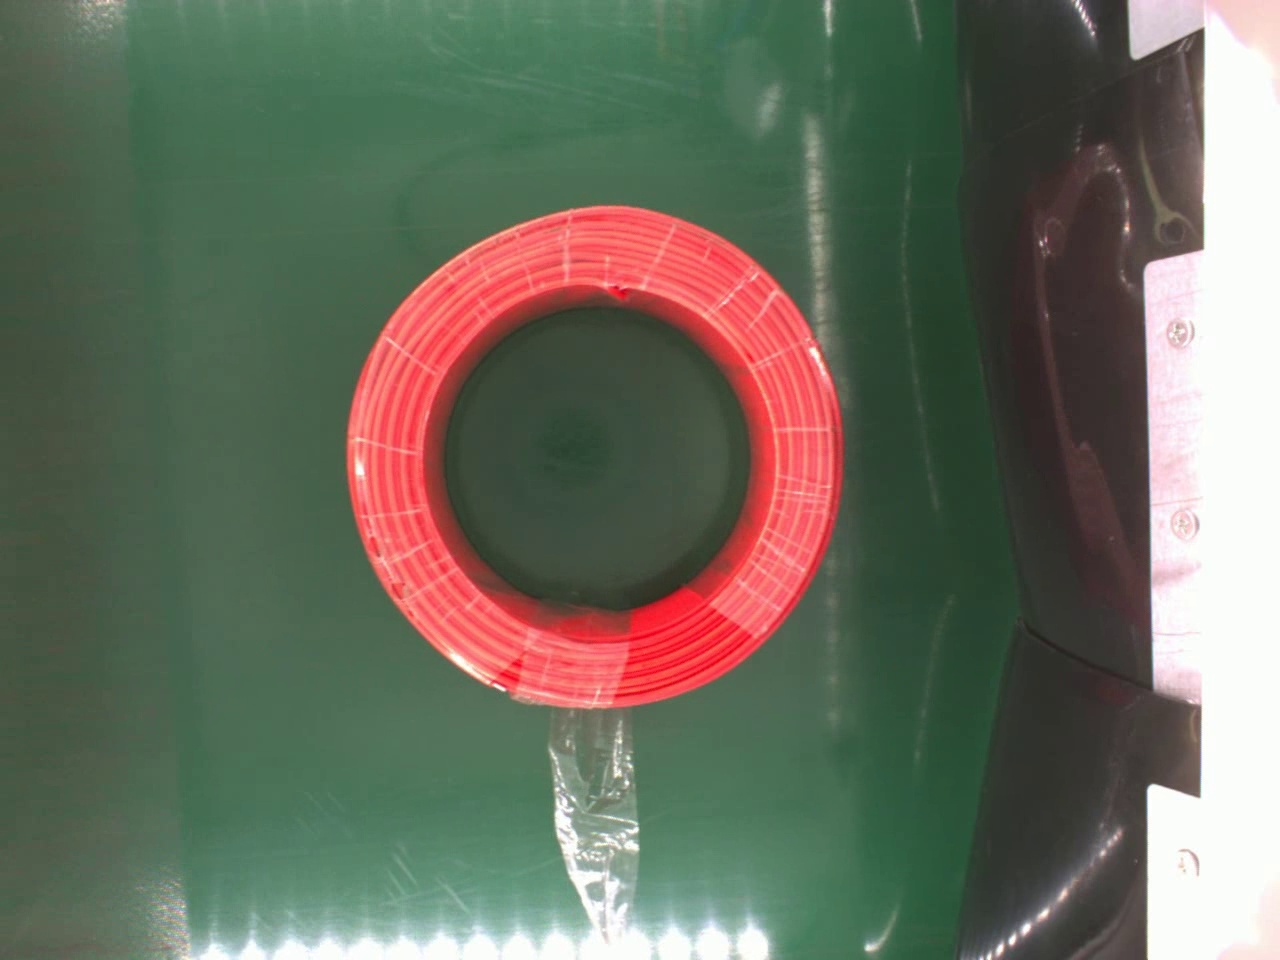red: (336, 199, 857, 717)
